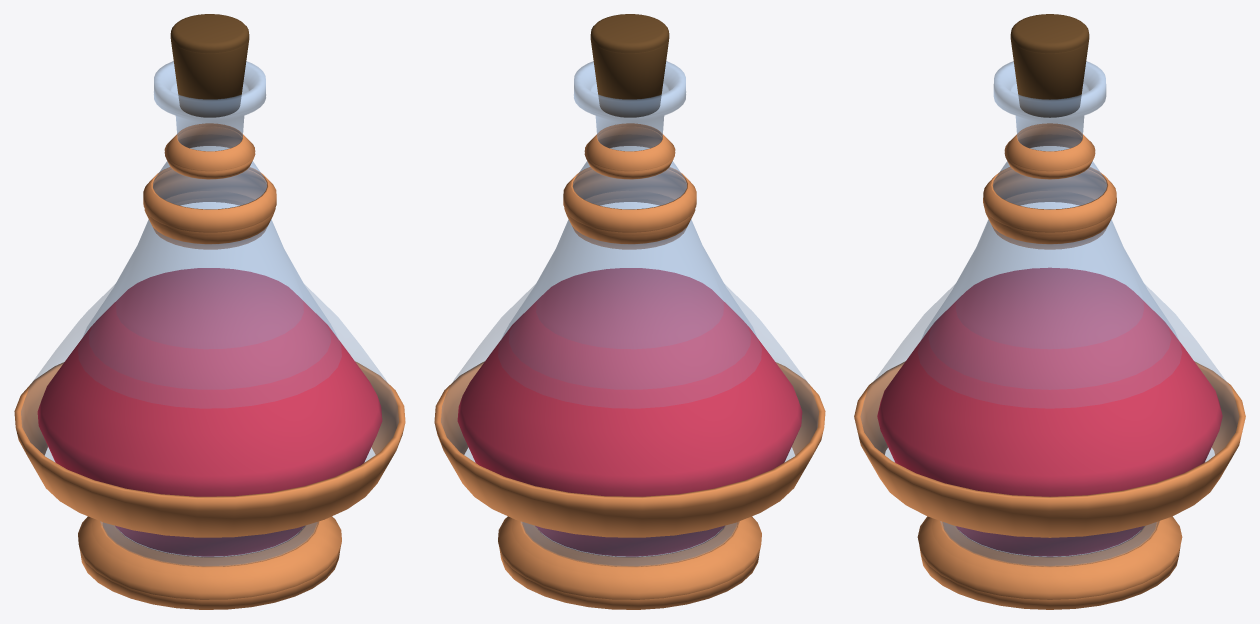
File: PotionVials.fbx
The picture shows the model from 3 angles, left to right: view 1: azimuth 30°, elevation 25°; view 2: azimuth 150°, elevation 25°; view 3: azimuth 270°, elevation 25°; orthographic projection.
Visible parts, largest first — view 1: Vial2, Vial5, Vial1, Vial6, Vial4, Vial3; view 2: Vial2, Vial5, Vial1, Vial6, Vial4, Vial3; view 3: Vial2, Vial5, Vial1, Vial6, Vial4, Vial3.
Boxes of the visible parts, box(x1,y1,x2,y2) form: Vial2: box(14, 14, 405, 599); Vial5: box(80, 38, 340, 609); Vial1: box(83, 38, 339, 576); Vial6: box(102, 37, 317, 566); Vial4: box(144, 36, 275, 235); Vial3: box(94, 40, 323, 323); Vial2: box(434, 14, 825, 599); Vial5: box(499, 38, 759, 609); Vial1: box(500, 38, 756, 576); Vial6: box(522, 37, 737, 566); Vial4: box(564, 36, 695, 235); Vial3: box(516, 40, 745, 323); Vial2: box(854, 14, 1245, 599); Vial5: box(919, 39, 1180, 609); Vial1: box(921, 38, 1178, 576); Vial6: box(942, 36, 1157, 566); Vial4: box(984, 37, 1115, 235); Vial3: box(933, 40, 1166, 324).
Bounding box in the file's own units: 108 × 160 × 108.
